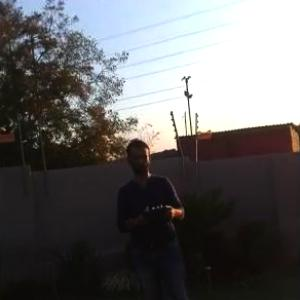follow: (111, 130, 199, 299)
